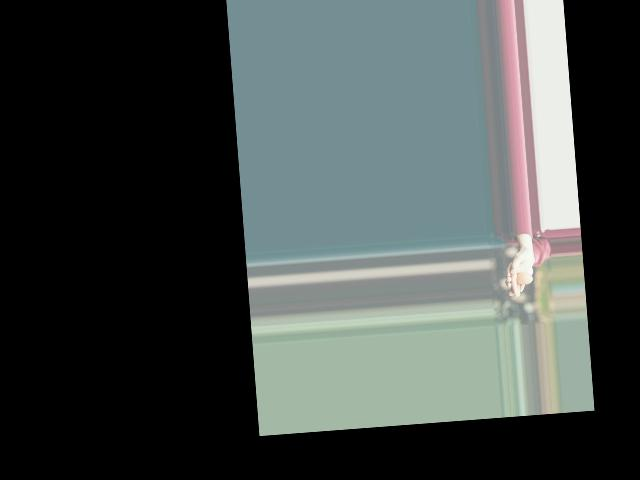egg: (516, 271, 533, 284)
